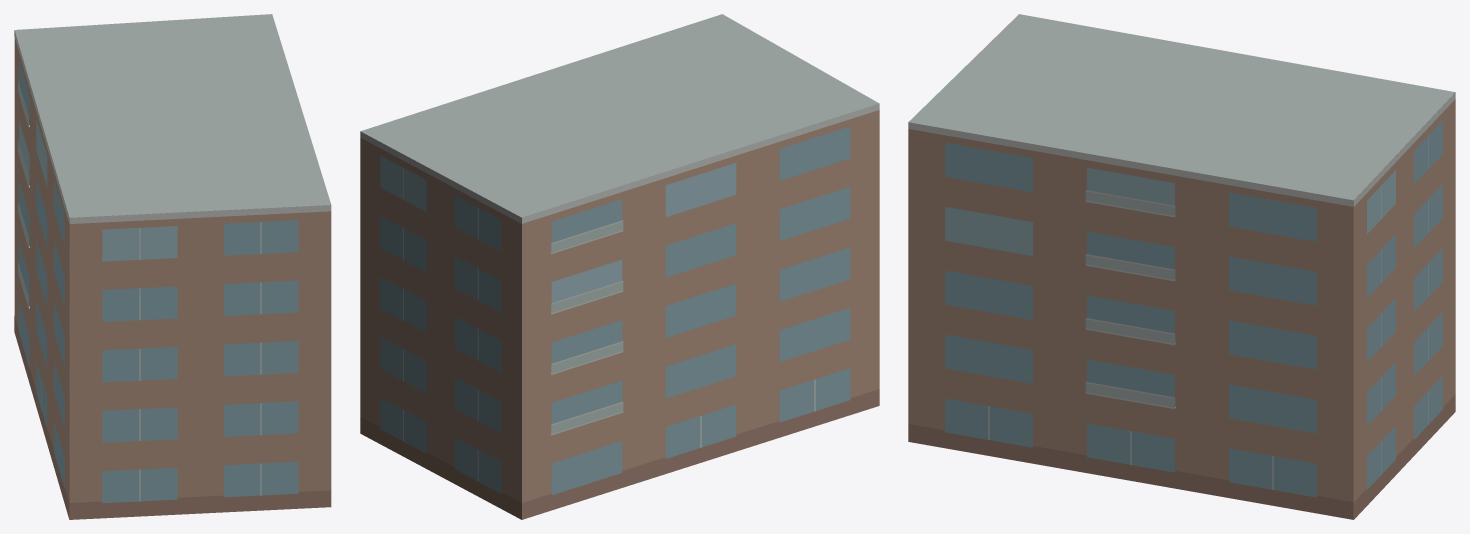
File: survey-upis-32845051.glb
The picture shows the model from 3 angles, left to right: view 1: azimuth 30°, elevation 25°; view 2: azimuth 150°, elevation 25°; view 3: azimuth 270°, elevation 25°; orthographic projection. The views are drawn at different scales.
Visible parts, largest first — view 1: survey-upis-32845051.tmp; view 2: survey-upis-32845051.tmp; view 3: survey-upis-32845051.tmp.
Boxes of the visible parts, left/top/right/bottom form: survey-upis-32845051.tmp: left=14, top=14, right=331, bottom=519; survey-upis-32845051.tmp: left=360, top=14, right=879, bottom=519; survey-upis-32845051.tmp: left=908, top=14, right=1455, bottom=519.
Bounding box in the file's own units: 14.7 × 11.75 × 18.25.
